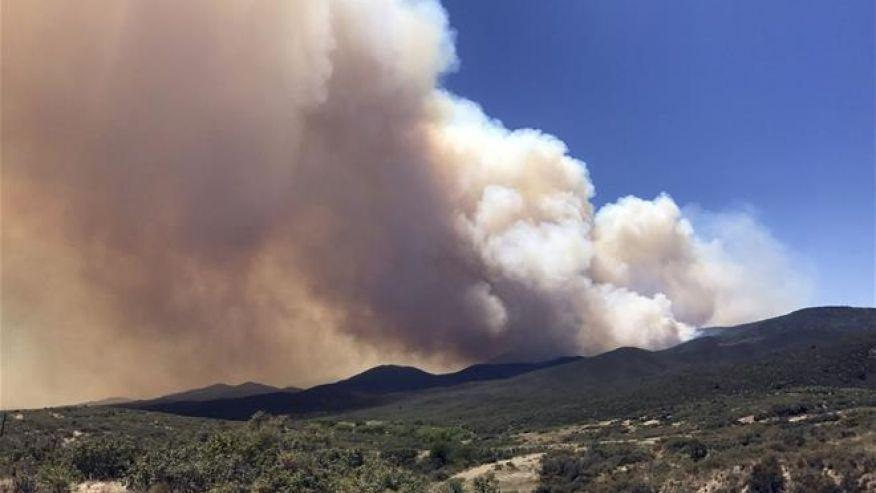smoke: (128, 40, 458, 284)
